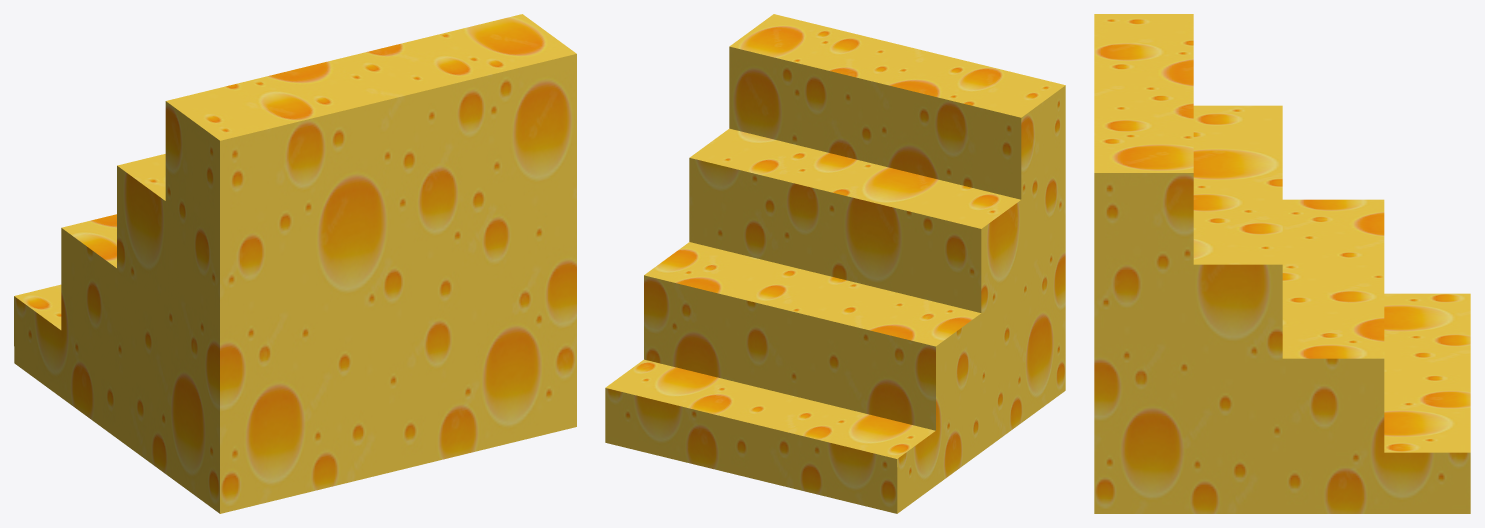
Rendered from POL0510001.fbx.
3 renders of one model, left to right at view 1: azimuth 30°, elevation 25°; view 2: azimuth 150°, elevation 25°; view 3: azimuth 270°, elevation 25°, orthographic. The views are drawn at different scales.
Parts seen in each view (by area): view 1: smPOL0510001; view 2: smPOL0510001; view 3: smPOL0510001.
Boxes of the visible parts, <box> form: smPOL0510001: <box>14,14,576,513</box>; smPOL0510001: <box>605,14,1065,513</box>; smPOL0510001: <box>1094,14,1470,513</box>.
Bounding box in the file's own units: 161 × 161 × 161.
1 material, 1 textured.
